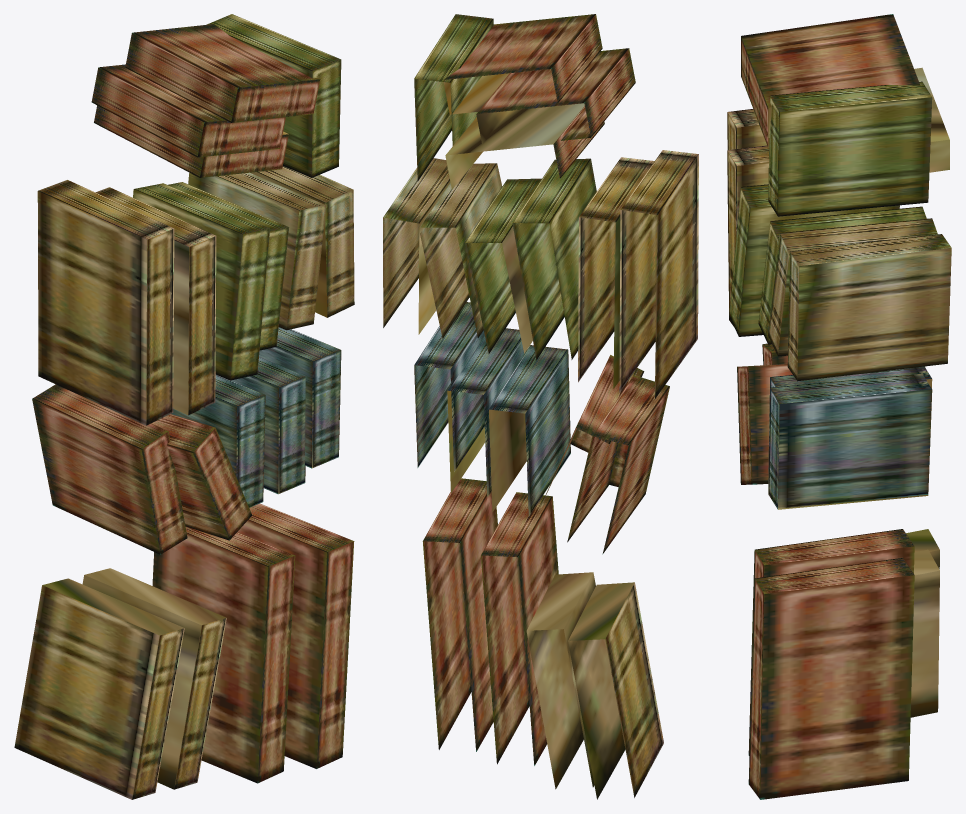
Rendered from book34-6.glb.
The picture shows the model from 3 angles, left to right: view 1: azimuth 30°, elevation 25°; view 2: azimuth 150°, elevation 25°; view 3: azimuth 270°, elevation 25°; orthographic projection.
Visible parts, largest first — view 1: book34_6; view 2: book34_6; view 3: book34_6.
Boxes of the visible parts, box(x1,y1,x2,y2) form: book34_6: box(14, 14, 354, 799); book34_6: box(383, 14, 698, 799); book34_6: box(727, 14, 951, 799).
Bounding box in the file's own units: 164 × 407 × 115.
Materials: 1 (1 with a texture image).
